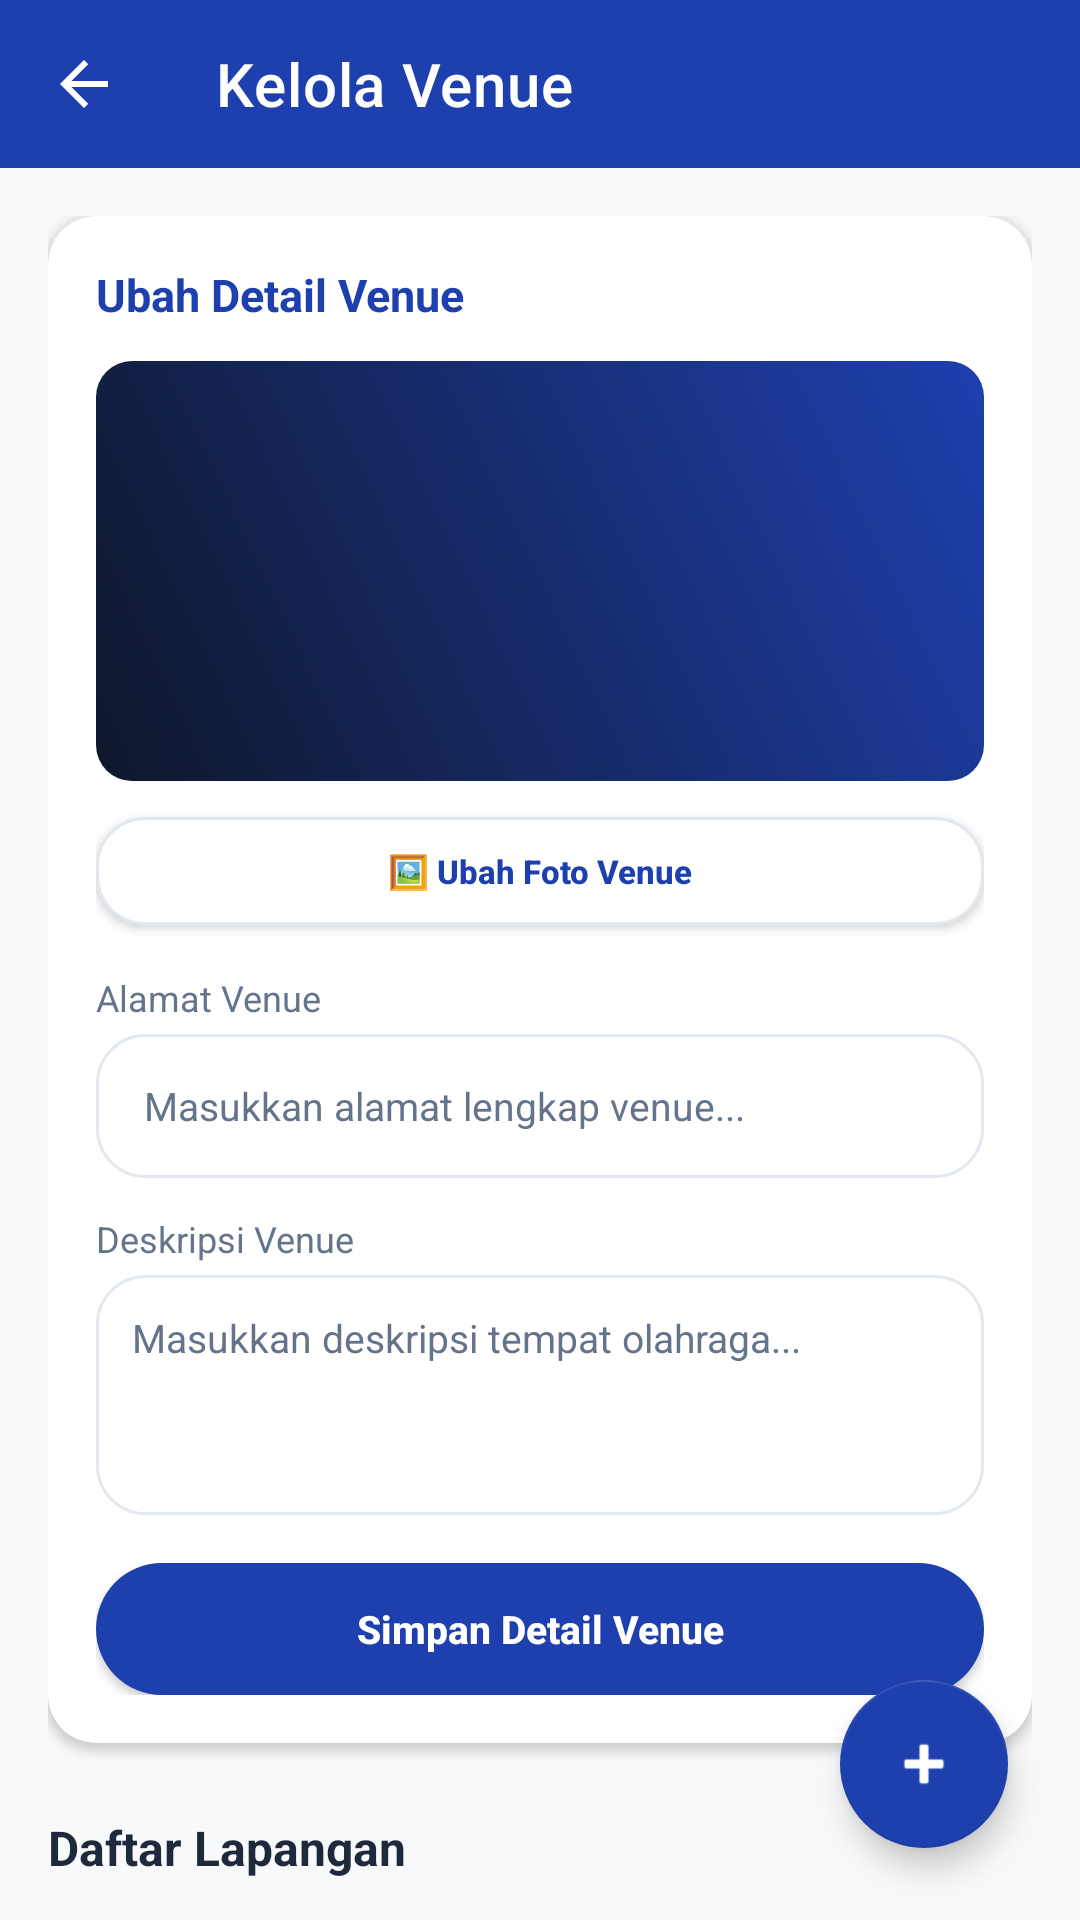

Icons on this 1080 x 1920 Android screen, each with the point to tap as [x,y]:
Tambah Lapangan: [924,1764]
